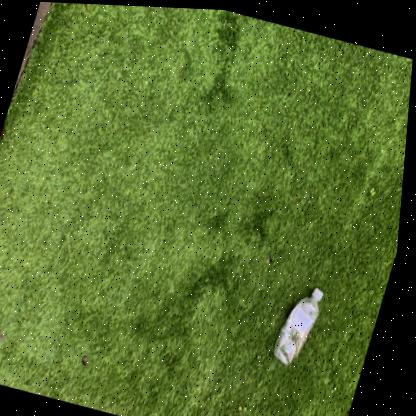Plastic: (279, 284, 328, 362)
